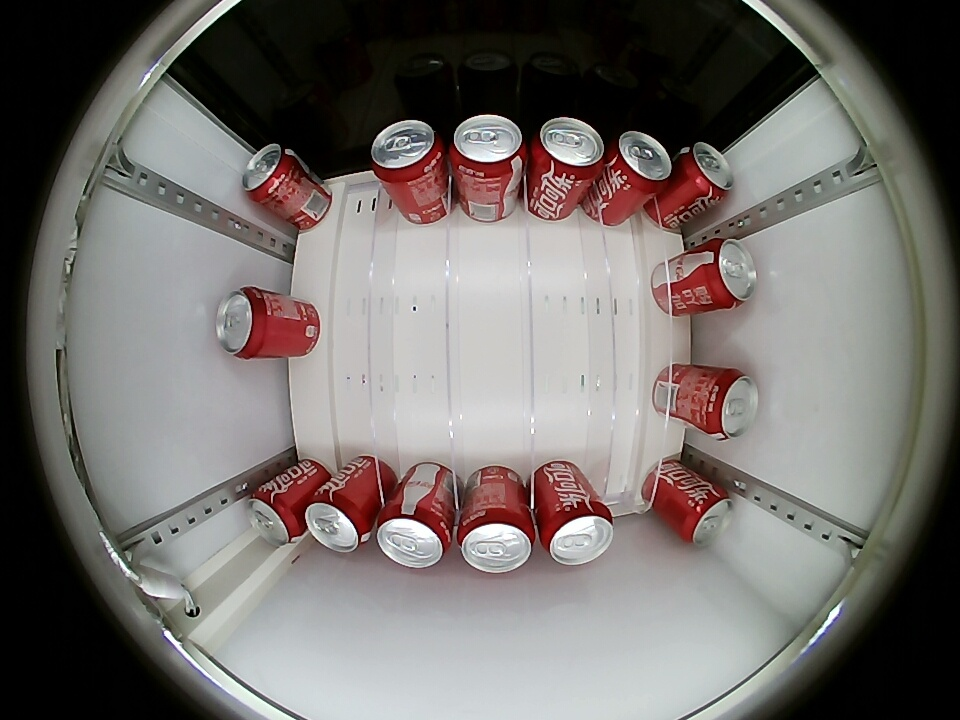kele: (457, 508, 536, 574), (539, 501, 615, 566), (376, 505, 453, 569), (370, 120, 446, 183), (450, 115, 526, 178), (531, 117, 605, 181), (304, 491, 373, 554), (699, 238, 758, 310), (215, 286, 272, 360), (606, 130, 673, 191), (702, 369, 759, 440), (677, 482, 734, 546), (678, 141, 735, 204), (246, 484, 304, 545), (241, 143, 296, 204)
